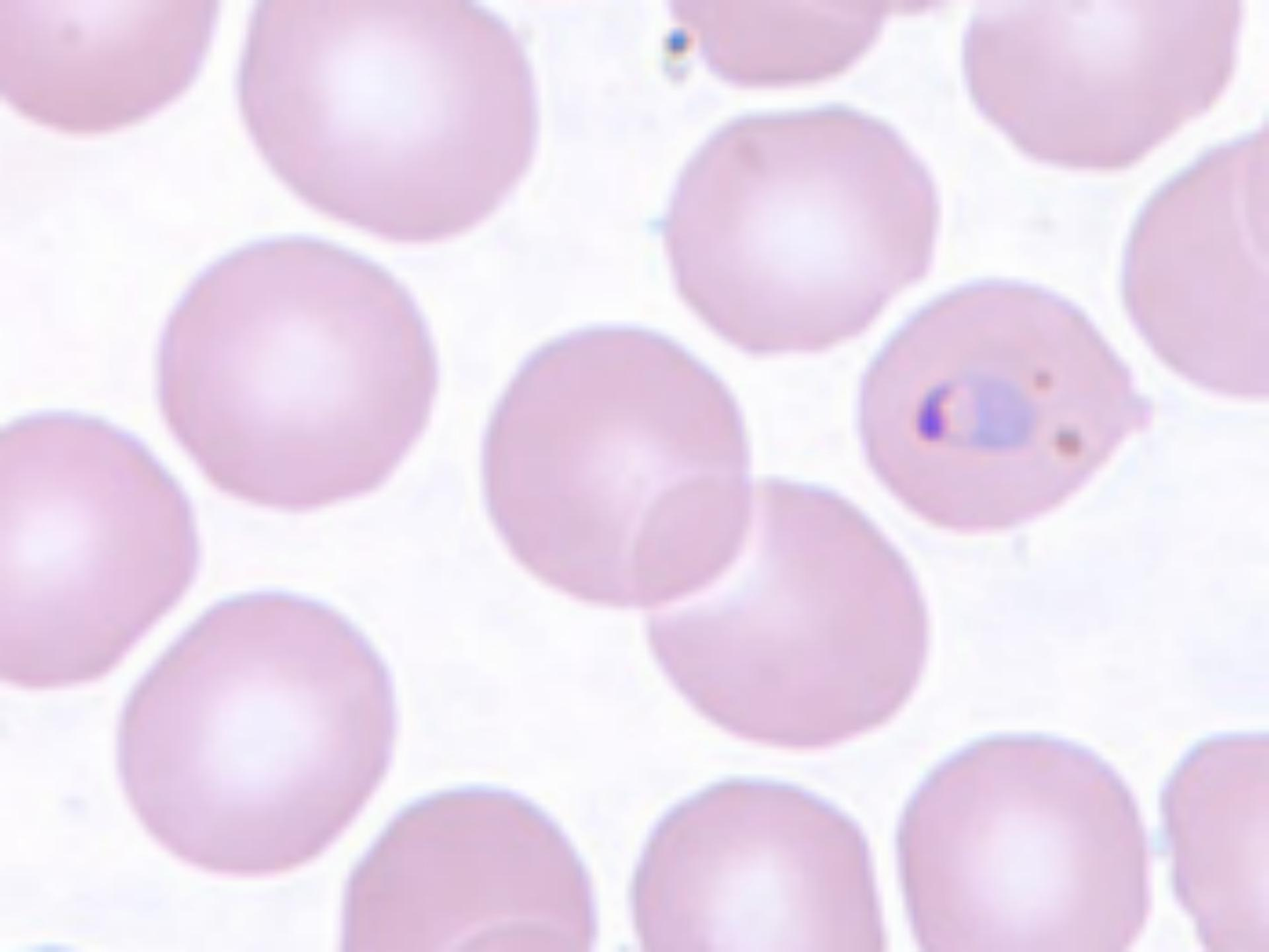Infected: (861, 280, 1145, 530)
Uninfected: (633, 466, 934, 747), (476, 326, 754, 608), (117, 594, 389, 870), (152, 240, 436, 503), (240, 0, 540, 241), (671, 106, 931, 356), (0, 402, 202, 688), (896, 735, 1151, 952), (339, 780, 597, 952), (633, 781, 889, 952), (963, 0, 1214, 171), (1124, 131, 1269, 394)
